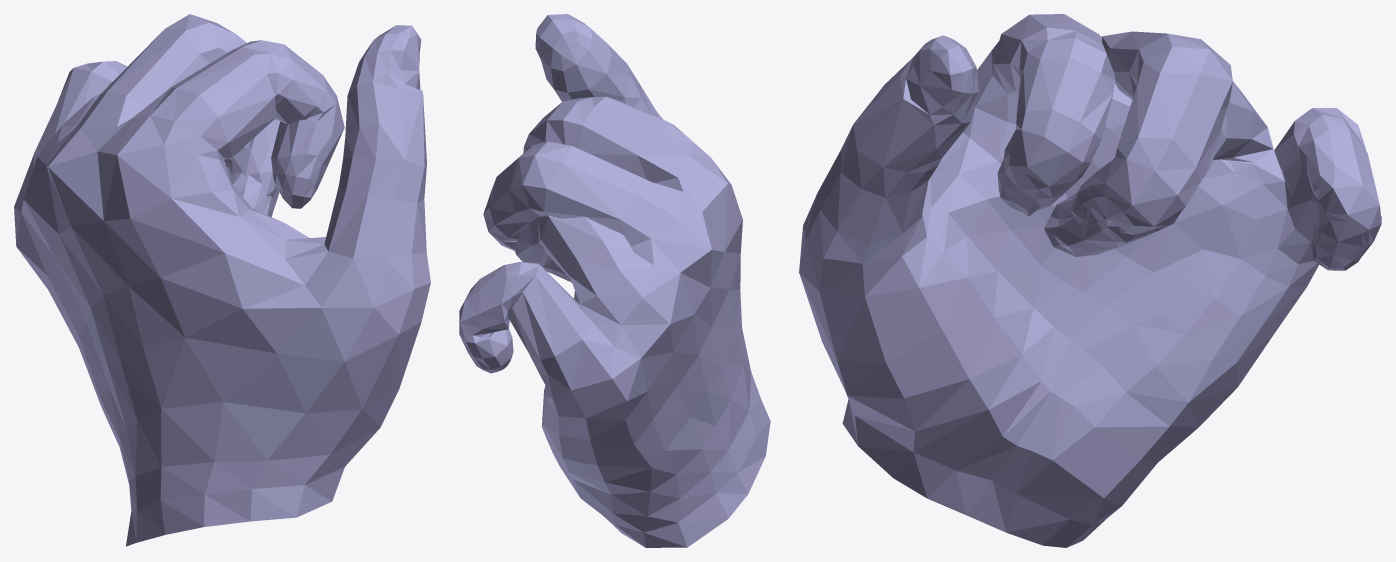
The model's file is frame_0081_source_000081_hand.glb.
3 views of the same model, side by side, from view 1: azimuth 30°, elevation 25°; view 2: azimuth 150°, elevation 25°; view 3: azimuth 270°, elevation 25° (orthographic). The views are drawn at different scales.
Parts seen in each view (by area): view 1: world; view 2: world; view 3: world.
Boxes of the visible parts, x1,y1,x2,y2 form: world: (14, 14, 430, 546); world: (459, 14, 770, 547); world: (799, 14, 1381, 547).
Size of the model in its own units: 0.0688 by 0.1193 by 0.1095.
